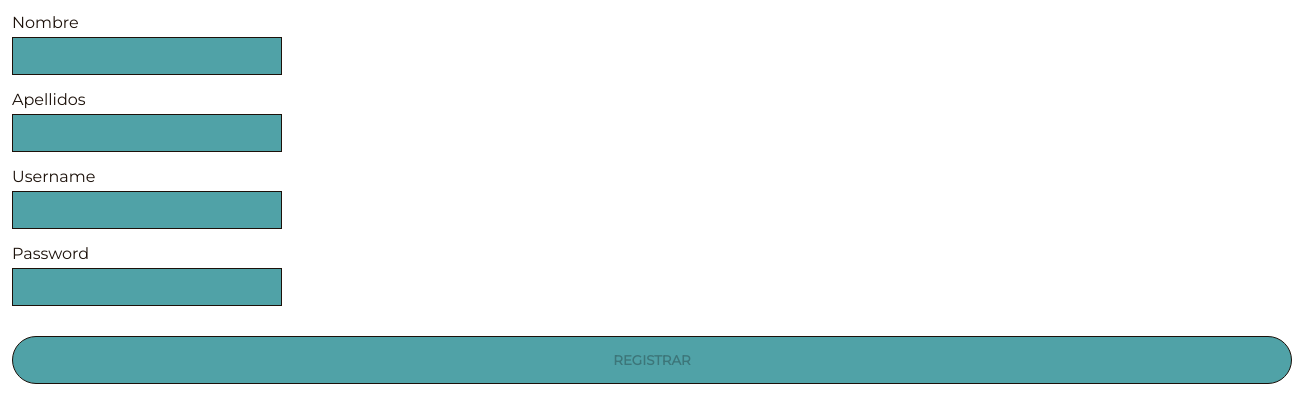
Test case: Given a RegisterForm component › When it is rendered and all the fields are field › Then the button should be enabled
Type "Ana" into the field labelled "Nombre". click: (147, 56)
box: [12,37,282,75]
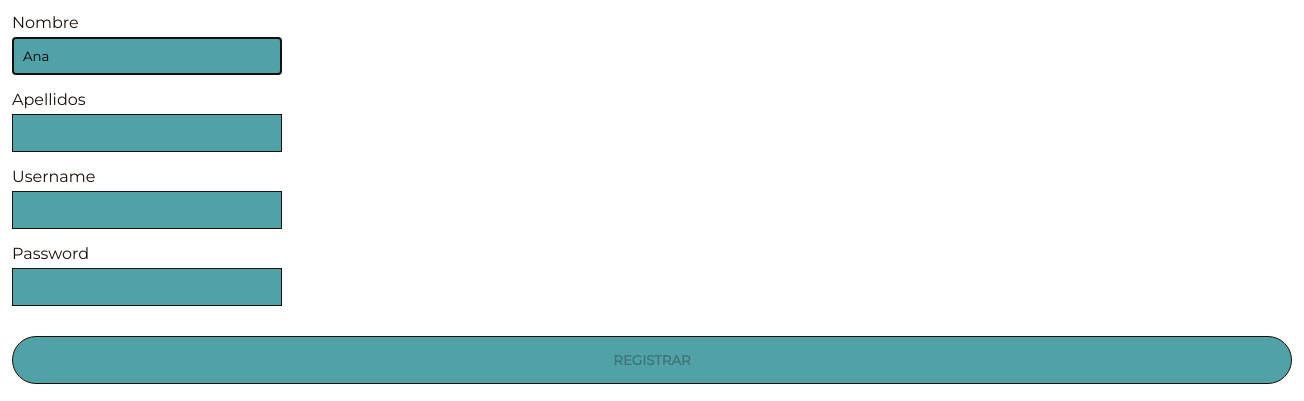
Type "Banana" into the field labelled "Apellidos". click: (147, 133)
box: [12,114,282,152]
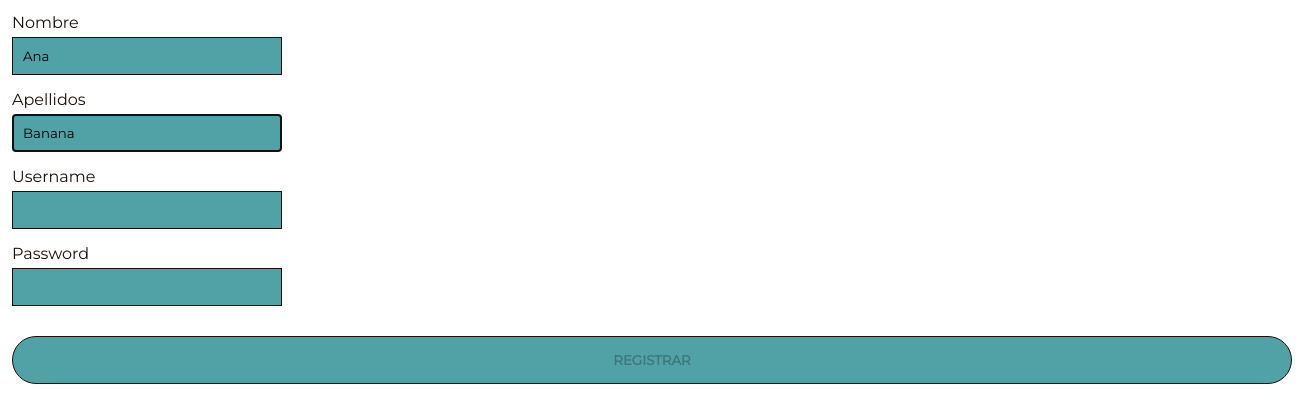
Type "Andana" into the field labelled "Username". click: (147, 210)
box: [12,191,282,229]
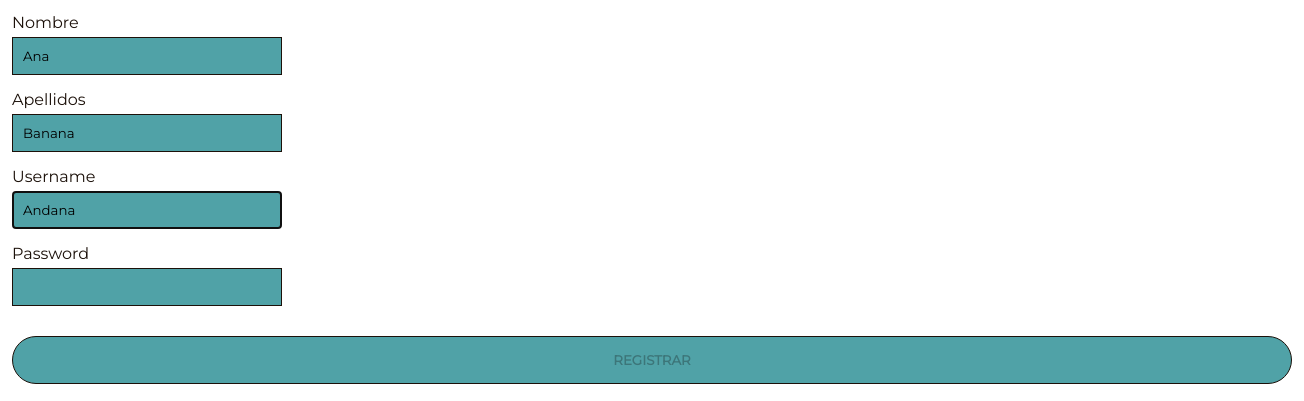
Type "Palangana" into the password field labelled "Password". click: (147, 287)
box: [12,268,282,306]
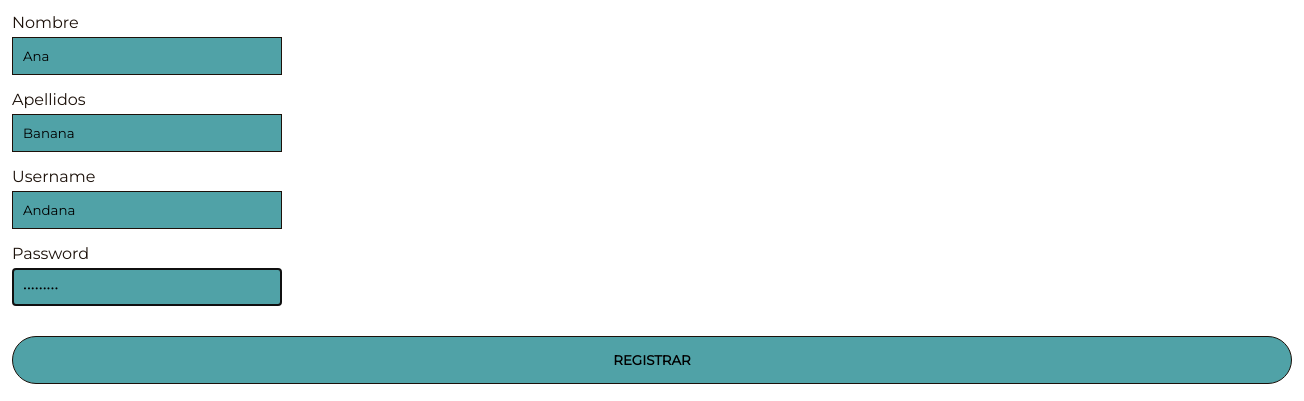
Check: the button "Registrar" is enabled, box [12,336,1292,384]
